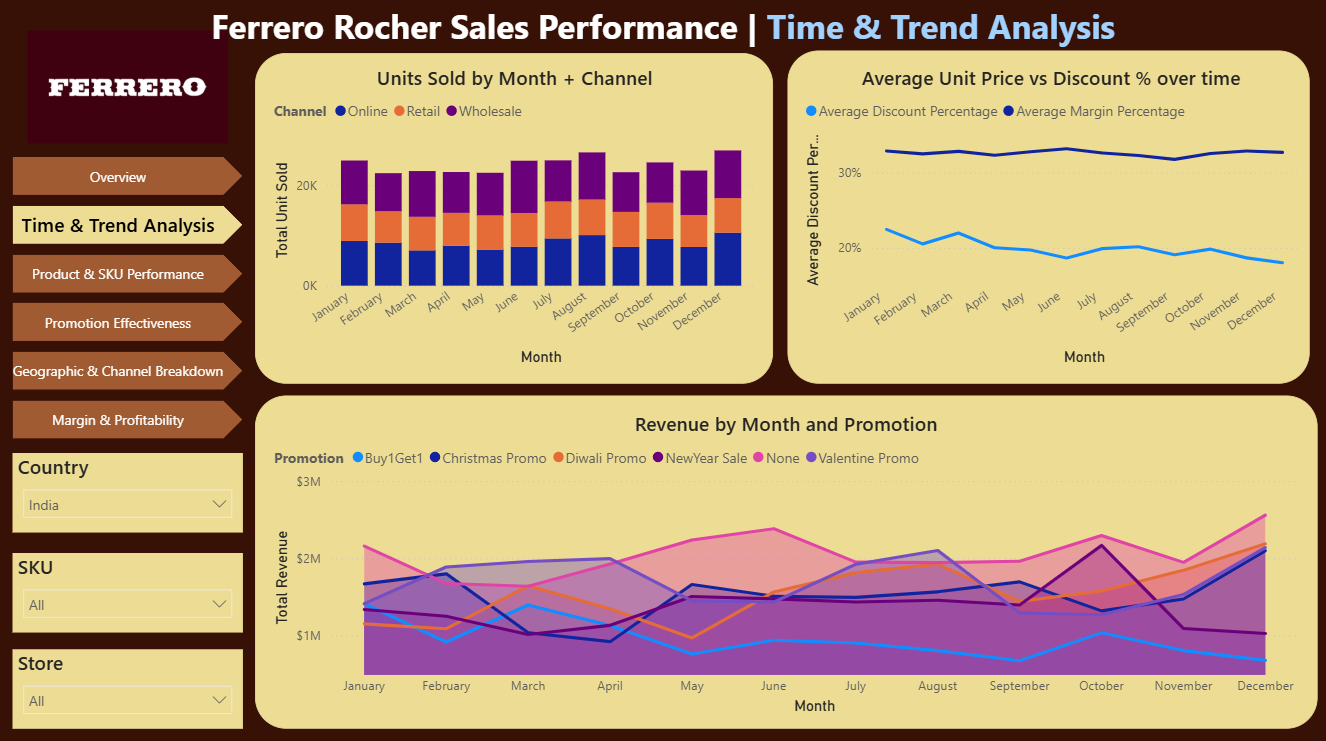

This screenshot's page, from the dashboard's own definition file:
{"tool":"powerbi","page":{"name":"Time & Trend Analysis","canvas":[1280,720],"ordinal":1},"visuals":[{"type":"shape","box":[246.2,53,500,319.4],"z":0},{"type":"shape","box":[760.1,50.5,503.8,322],"z":1000},{"type":"shape","box":[246.2,383.8,1025.2,322],"z":2000},{"type":"slicer","title":"SKU","fields":{"Values":["Sales.SKU"]},"box":[12.6,535.3,222.2,77],"z":3000},{"type":"slicer","title":"Country","fields":{"Values":["Sales.Country"]},"box":[12.6,439.4,222.2,77],"z":4000},{"type":"slicer","title":"Store","fields":{"Values":["Sales.Store"]},"box":[12.6,628.8,222.2,77],"z":5000},{"type":"image","box":[12.6,31.6,222.2,108.6],"z":6000},{"type":"pageNavigator","box":[12.6,152.8,222.2,276.5],"z":7000},{"type":"textbox","box":[0,0,1280.3,53],"z":8000},{"type":"areaChart","title":"Revenue by Month and Promotion","fields":{"Y":["Sales.Total Revenue"],"Category":["Dimdate.Date.Variation.Date Hierarchy.Month"],"Series":["Sales.Promotion"]},"box":[258.8,397.7,998.7,298],"z":9000},{"type":"columnChart","title":"Units Sold by Month + Channel","fields":{"Category":["Dimdate.Date.Variation.Date Hierarchy.Month"],"Y":["Sales.Total Unit Sold"],"Series":["Sales.Channel"]},"box":[258.8,64.4,474.7,295.4],"z":10000},{"type":"lineChart","title":"Average Unit Price vs Discount % over time","fields":{"Category":["Dimdate.Date.Variation.Date Hierarchy.Month"],"Y":["Sales.Average Discount","Sales.Average Margin Percentage"]},"box":[772.7,64.4,484.8,295.4],"z":11000}]}

Visuals, with their boxes in screenshot pixels (x1, y1, x2, y2), scaled from the page's 1280x720 canvas onto the 1326x741 screenshot:
shape: region(255, 55, 773, 383)
shape: region(787, 52, 1309, 383)
shape: region(255, 395, 1317, 726)
"SKU" slicer: region(13, 551, 243, 630)
"Country" slicer: region(13, 452, 243, 531)
"Store" slicer: region(13, 647, 243, 726)
image: region(13, 33, 243, 144)
pageNavigator: region(13, 157, 243, 442)
textbox: region(0, 0, 1325, 55)
"Revenue by Month and Promotion" areaChart: region(268, 409, 1303, 716)
"Units Sold by Month + Channel" columnChart: region(268, 66, 760, 370)
"Average Unit Price vs Discount % over time" lineChart: region(800, 66, 1303, 370)
